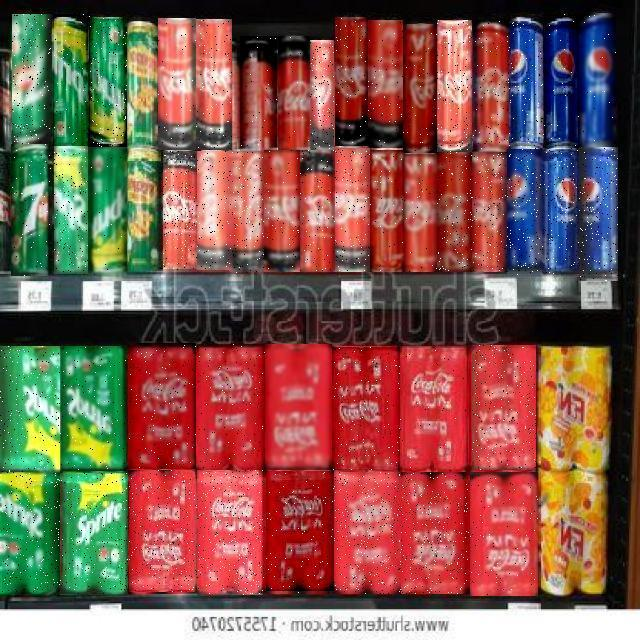Drinks: (401, 346, 469, 472), (265, 344, 333, 470), (197, 344, 265, 470), (129, 343, 197, 469), (198, 470, 266, 595), (59, 346, 127, 471), (471, 472, 539, 596), (332, 347, 400, 470), (402, 472, 470, 594), (333, 472, 401, 594), (266, 472, 334, 594), (129, 471, 197, 593), (60, 473, 128, 595), (472, 345, 536, 470), (0, 346, 60, 472), (2, 471, 60, 593), (12, 144, 52, 276), (579, 147, 618, 281), (88, 17, 127, 148), (578, 13, 616, 147), (12, 14, 51, 144), (158, 18, 196, 150), (88, 148, 127, 276), (53, 14, 90, 146), (543, 15, 579, 149), (508, 16, 544, 150), (473, 20, 509, 154), (196, 19, 232, 150), (437, 20, 472, 152), (543, 149, 579, 275), (508, 150, 544, 276), (335, 148, 371, 272), (299, 151, 335, 273), (265, 151, 301, 273), (403, 24, 437, 153), (336, 17, 370, 146), (369, 20, 403, 148), (54, 146, 88, 274), (471, 153, 507, 273), (240, 37, 277, 153), (437, 153, 472, 273), (370, 150, 404, 272), (231, 152, 265, 274), (198, 152, 232, 272), (163, 152, 197, 272), (403, 154, 437, 272), (278, 36, 310, 152), (309, 40, 334, 151)
